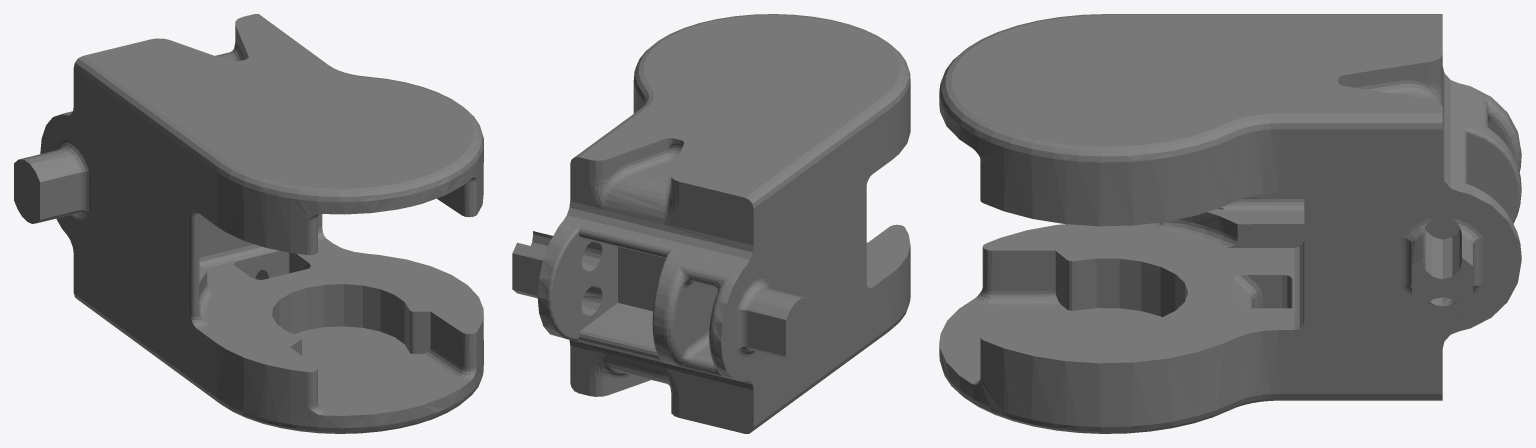
The model's file is rh_middle_metacarpals_vis.obj.
The picture shows the model from 3 angles, left to right: view 1: azimuth 30°, elevation 25°; view 2: azimuth 150°, elevation 25°; view 3: azimuth 270°, elevation 25°; orthographic projection. The views are drawn at different scales.
Visible parts, largest first — view 1: rh_middle_metacarpals; view 2: rh_middle_metacarpals; view 3: rh_middle_metacarpals.
Part boxes in pixels (x1,y1,x2,y2): rh_middle_metacarpals: (14, 14, 483, 433); rh_middle_metacarpals: (512, 14, 910, 433); rh_middle_metacarpals: (939, 14, 1521, 433).
Size of the model in its own units: 0.0202 by 0.016 by 0.0295.
1 material, 1 textured.
